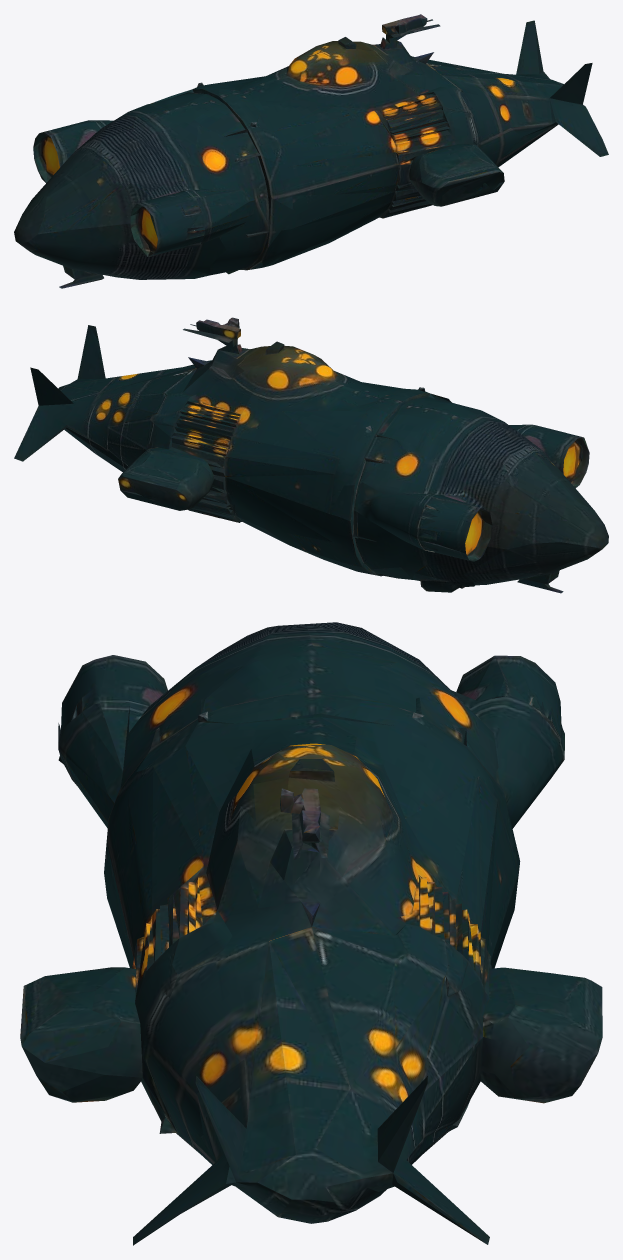
Rendered from nation-j-scout.glb.
3 renders of one model, top to bottom at view 1: azimuth 30°, elevation 25°; view 2: azimuth 150°, elevation 25°; view 3: azimuth 270°, elevation 25°, orthographic. The views are drawn at different scales.
Size of the model in its own units: 1.9 by 0.657 by 0.8624.
Materials: 1 (1 with a texture image).
